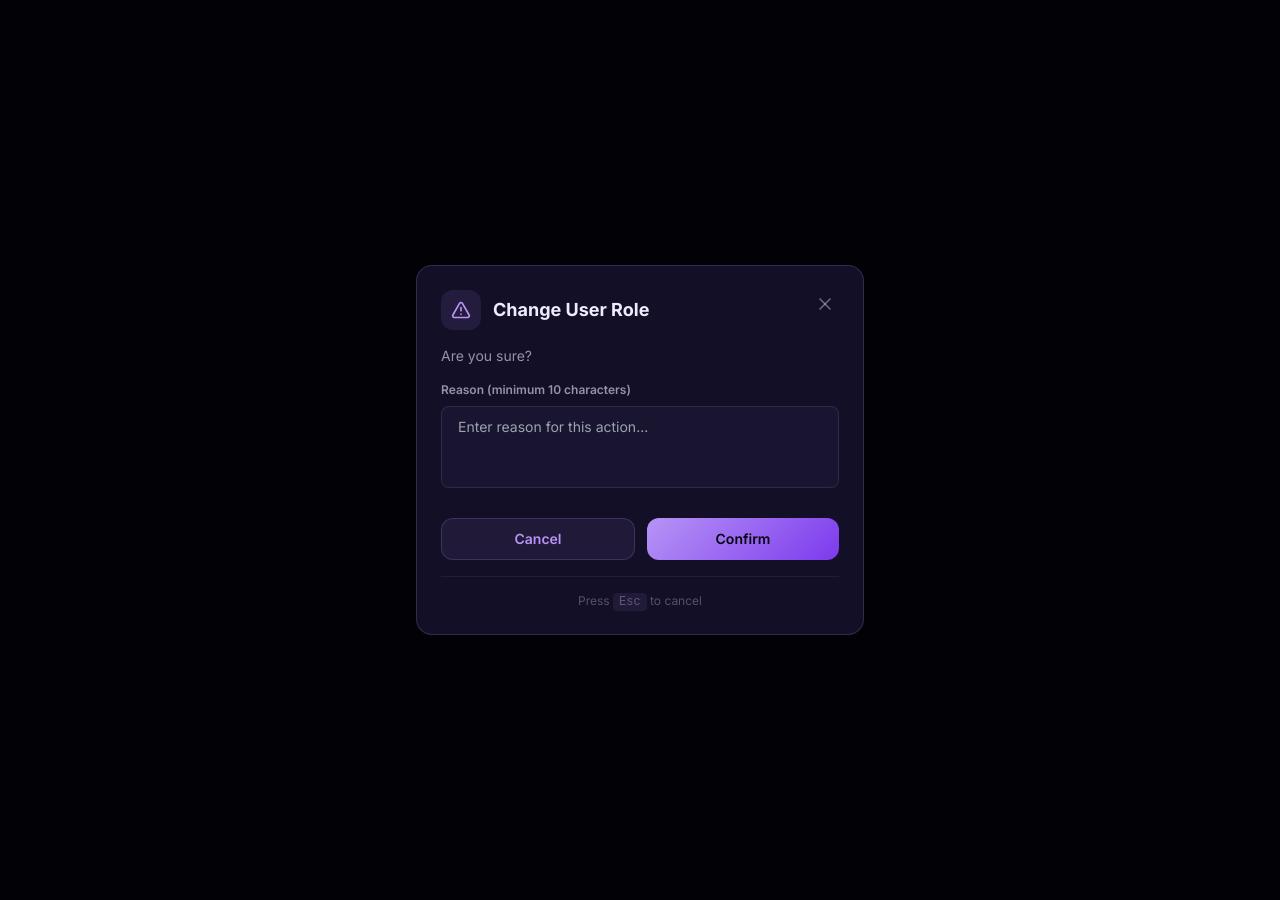
Test: ConfirmationDialog - Reason Validation Integration › should display character count when typing
The width and height of the screenshot is (1280, 900).
Type some text
Type "Testing" into the text box with placeholder "Enter reason for this action...". click: (640, 447)
box: [441,406,839,488]
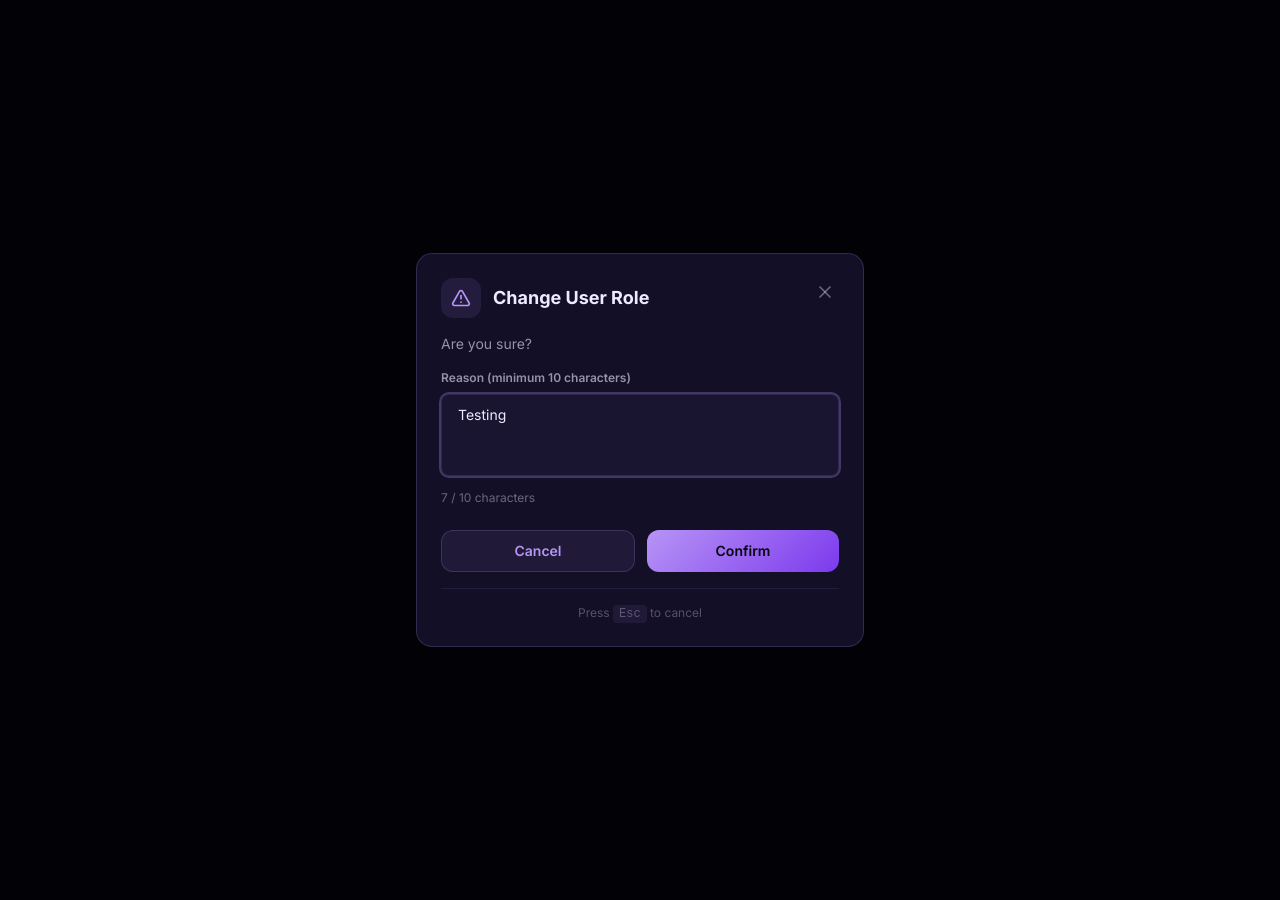
Expected: the text "7 / 10 characters" is shown, [441,490,535,505]
